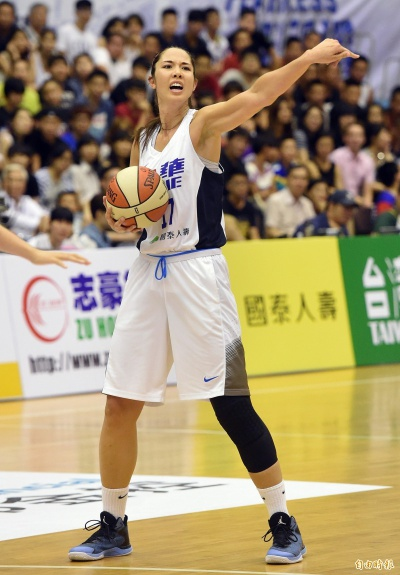female: (146, 45, 202, 138)
